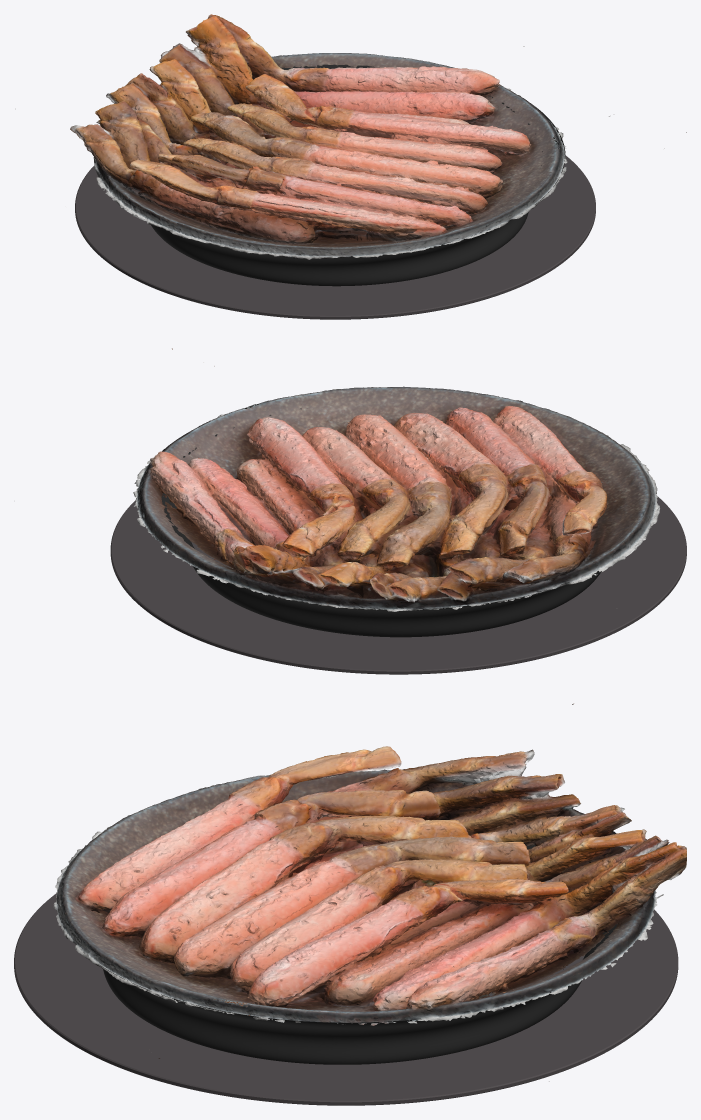
3 views of the same model, one above another, from view 1: azimuth 30°, elevation 25°; view 2: azimuth 150°, elevation 25°; view 3: azimuth 270°, elevation 25° (orthographic). The views are drawn at different scales.
Visible parts, largest first — view 1: Photo, Base, Sidewall; view 2: Photo, Base, Sidewall; view 3: Photo, Base, Sidewall.
Boxes of the visible parts, x1,y1,x2,y2 form: Photo: (66, 14, 686, 259); Base: (75, 155, 595, 319); Sidewall: (93, 64, 565, 286); Photo: (133, 348, 659, 611); Base: (110, 497, 686, 674); Sidewall: (161, 408, 601, 637); Photo: (53, 703, 686, 1081); Base: (14, 893, 678, 1105); Sidewall: (57, 845, 653, 1064).
Size of the model in its own units: 0.2837 by 0.052 by 0.2532.
3 materials, 1 textured.
